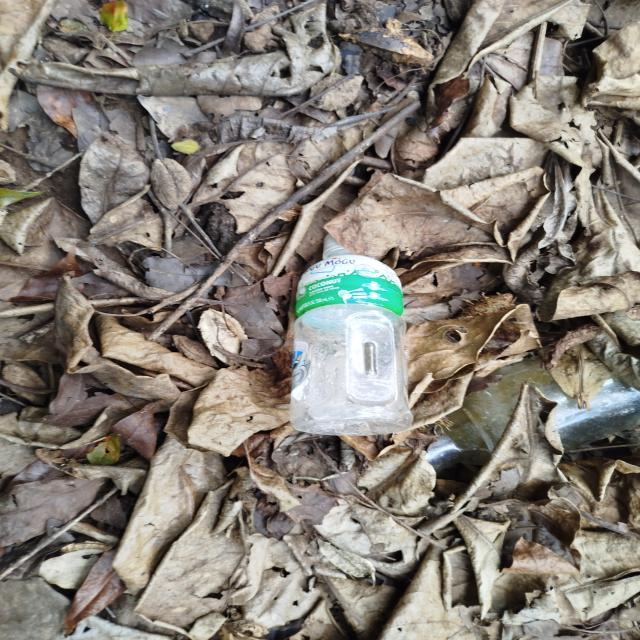plastic: (282, 226, 426, 445)
